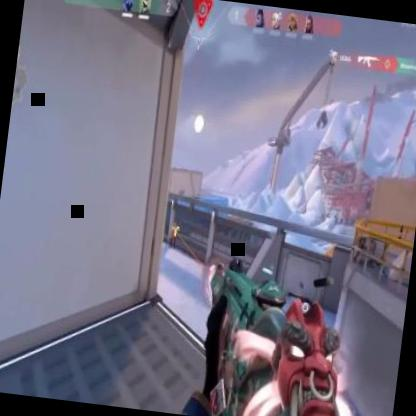enemy: (168, 219, 177, 247)
enemy_head: (172, 220, 176, 228)
